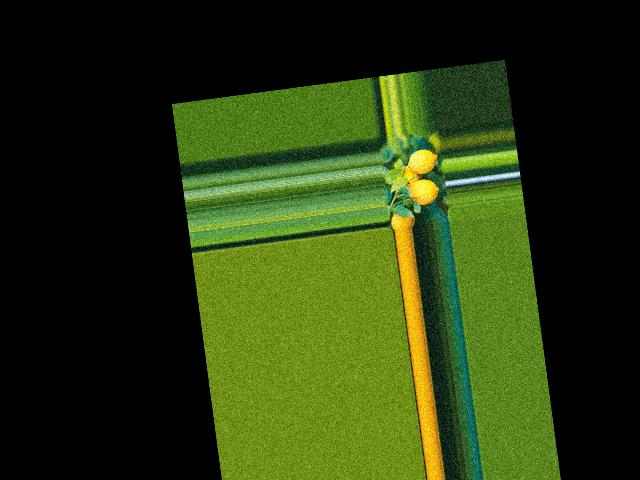lemon: (405, 147, 438, 174)
